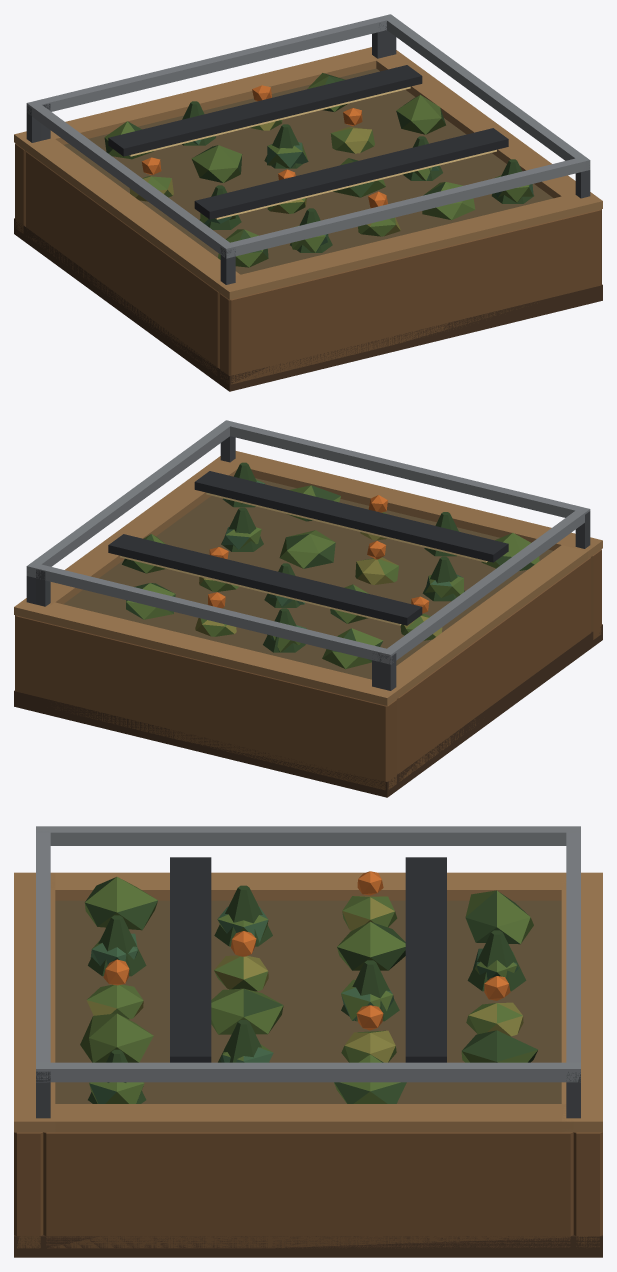
The model's file is piece_farm.fbx.
The picture shows the model from 3 angles, top to bottom: view 1: azimuth 30°, elevation 25°; view 2: azimuth 150°, elevation 25°; view 3: azimuth 270°, elevation 25°; orthographic projection. The views are drawn at different scales.
Visible parts, largest first — view 1: piece_farm; view 2: piece_farm; view 3: piece_farm.
Part boxes in pixels (x1=…): piece_farm: x1=14, y1=14, x2=602, y2=391; piece_farm: x1=14, y1=420, x2=602, y2=797; piece_farm: x1=14, y1=826, x2=602, y2=1257.
Bounding box in the file's own units: 2 × 0.695 × 2.
